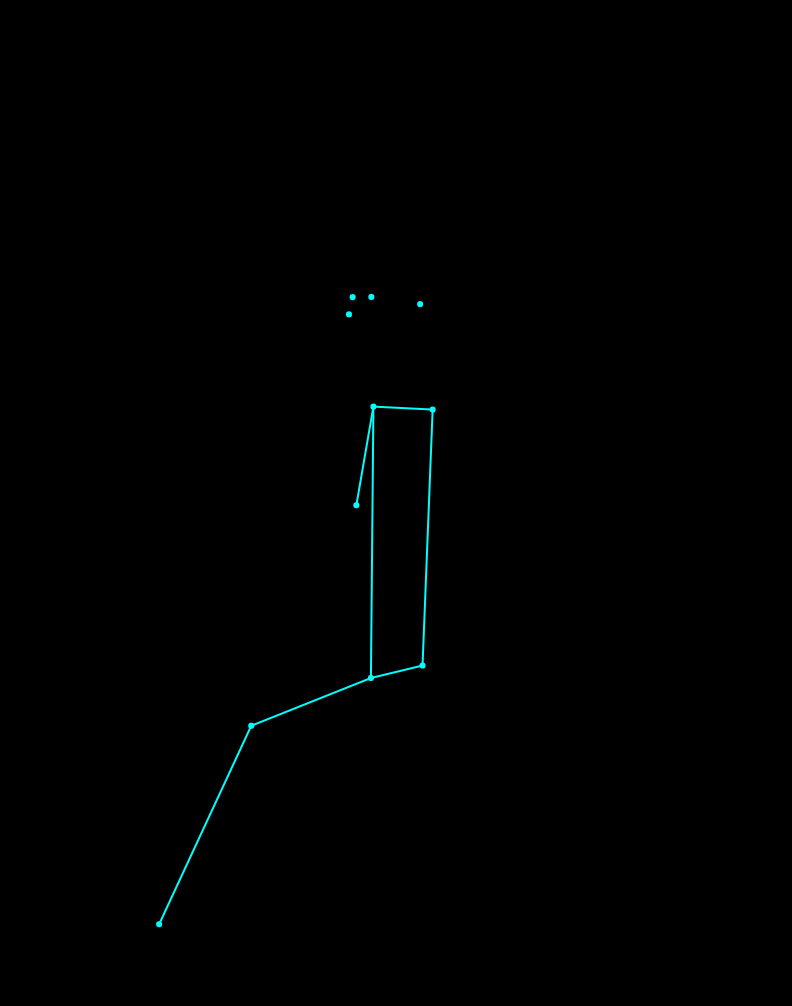warrior_1: (152, 256, 454, 938)
